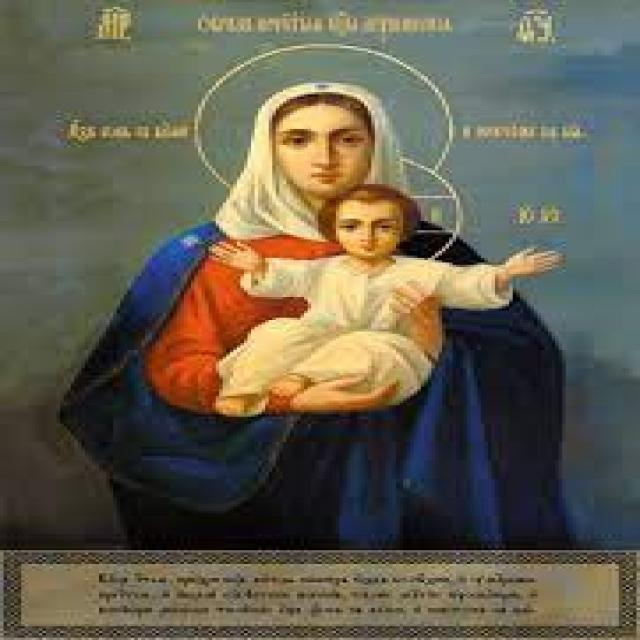mother of god: (64, 73, 584, 551)
